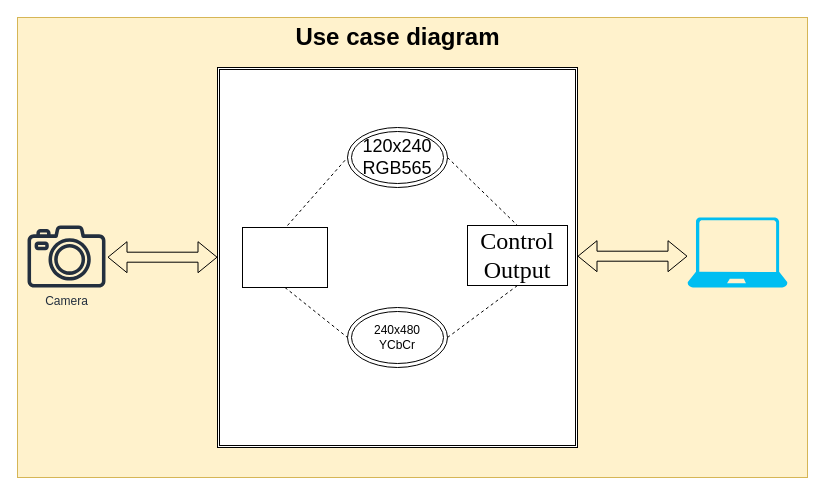
Some shapes in this 825 by 503 pixel diagram are drawn without their labels. The box of each missing label's shape, as (x1, y1, x2, y2) in pixels:
Computer: (687, 217, 787, 287)
Control Buffer: (242, 226, 328, 288)
